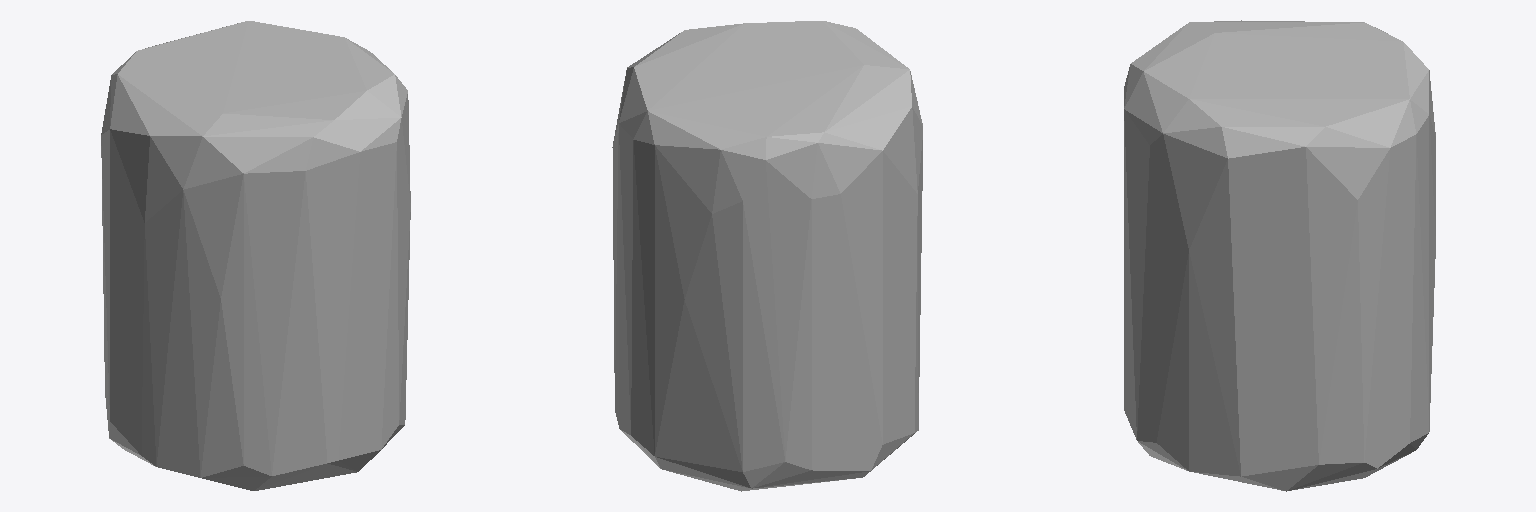
URDF robot description (root):
<robot name="root">
  <link name="link_ycb~002_master_chef_can_convex_piece_0">
    <inertial>
      <origin xyz="0 0 0" rpy="0 0 0"/>
      <mass value="4.35E+00"/>
      <inertia ixx="9.73E-03" ixy="2.79E-05" ixz="-2.78E-05" iyy="9.67E-03" iyz="3.88E-05" izz="6.06E-03"/>
    </inertial>
    <visual>
      <origin xyz="0 0 0" rpy="0 0 0"/>
      <geometry>
        <mesh filename="ycb~002_master_chef_can_convex_piece_0.obj" scale="1.0000E+00 1.0000E+00 1.0000E+00"/>
      </geometry>
      <material name="">
        <color rgba="7.50E-01 7.50E-01 7.50E-01 1"/>
      </material>
    </visual>
    <collision>
      <origin xyz="0 0 0" rpy="0 0 0"/>
      <geometry>
        <mesh filename="ycb~002_master_chef_can_convex_piece_0.obj" scale="1.0000E+00 1.0000E+00 1.0000E+00"/>
      </geometry>
    </collision>
  </link>
</robot>

--- What the picture shows (computed from the rendered views, not written in the file) ---
Views: 3 orthographic renders of the robot side by side, from view 1: azimuth 30°, elevation 25°; view 2: azimuth 150°, elevation 25°; view 3: azimuth 270°, elevation 25°.
Robot: root — 1 links, 0 joints (none); root link link_ycb~002_master_chef_can_convex_piece_0; default pose: all joints at 0.
Links seen in each view (by area): view 1: link_ycb~002_master_chef_can_convex_piece_0; view 2: link_ycb~002_master_chef_can_convex_piece_0; view 3: link_ycb~002_master_chef_can_convex_piece_0.
Link boxes in pixels (x1,y1,x2,y2): link_ycb~002_master_chef_can_convex_piece_0: [101, 21, 410, 490]; link_ycb~002_master_chef_can_convex_piece_0: [612, 21, 922, 491]; link_ycb~002_master_chef_can_convex_piece_0: [1124, 20, 1435, 491].
Bounding box of the posed robot: 0.1041 × 0.1064 × 0.1396 m (x, y, z).
Meshes: 1 distinct files referenced, 1 mesh visuals loaded (1 OBJ).